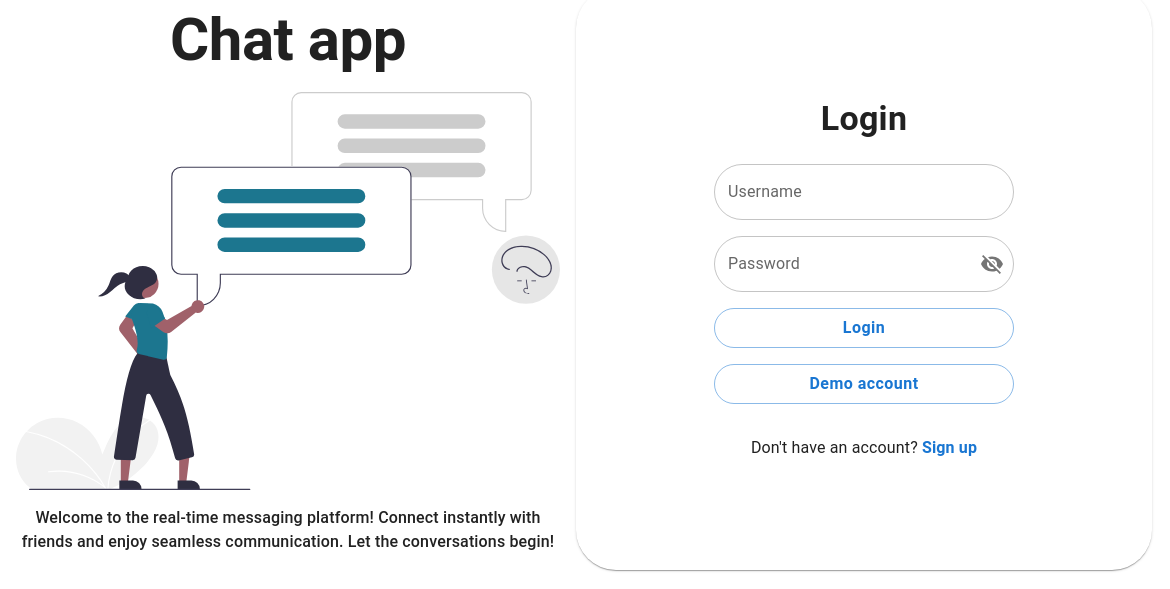
Change from Login to SignUp component
Expected: the heading "Login" is shown, top-left (821, 98), bottom-right (907, 140)
Click the link with test id "sign-up-login-link" at (950, 448), box top-left (922, 438), bottom-right (977, 457)
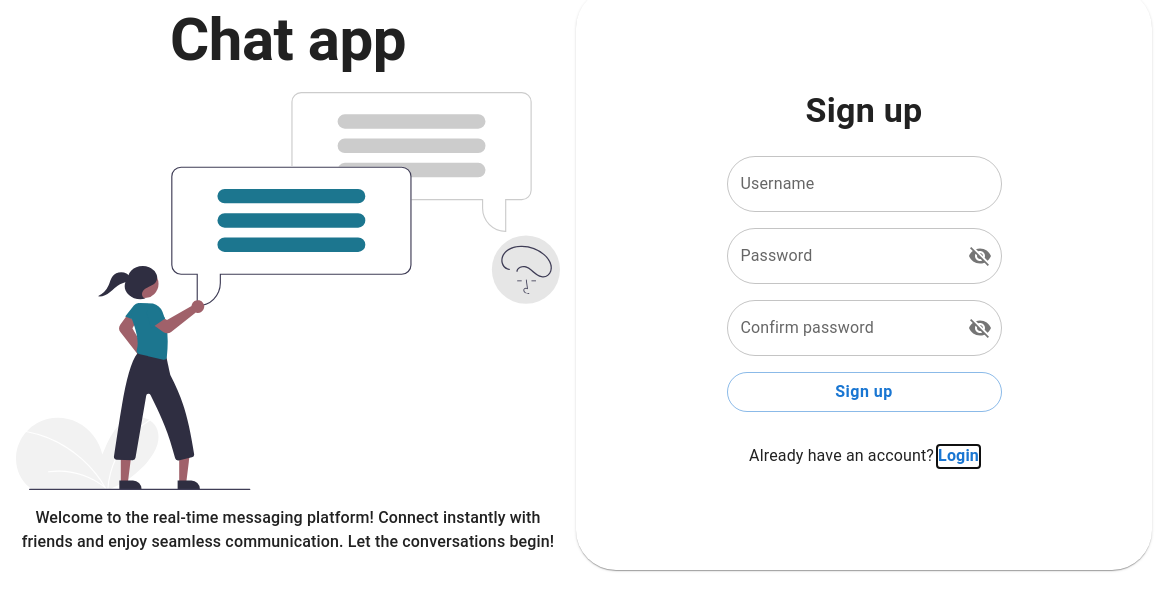
Expected: the text "Already have an account?" is shown, top-left (749, 446), bottom-right (934, 465)
